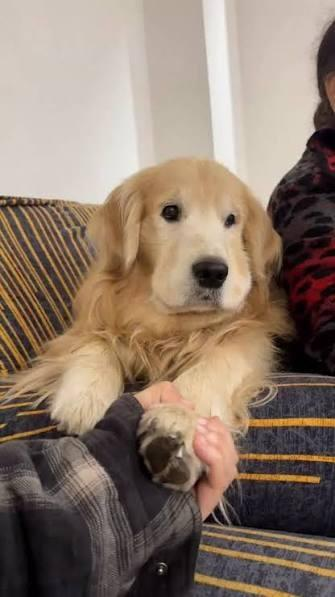adult_dog: (15, 157, 291, 495)
